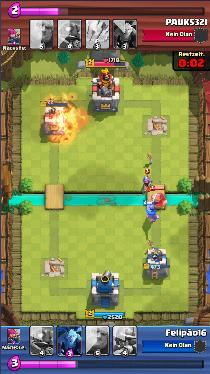ally_fireball: (41, 101, 82, 141)
ally_knight: (142, 202, 158, 221)
enemy_knight: (152, 192, 168, 207)
enemy_musketeer: (141, 176, 152, 190)
